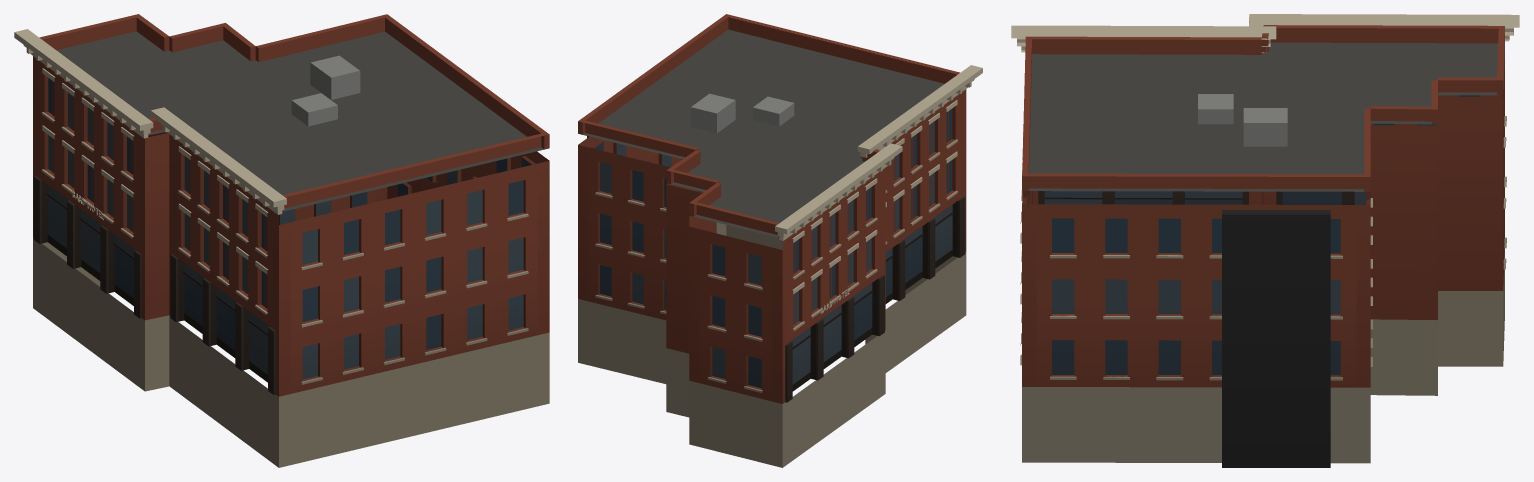
File: bard.glb
The picture shows the model from 3 angles, left to right: view 1: azimuth 30°, elevation 25°; view 2: azimuth 150°, elevation 25°; view 3: azimuth 270°, elevation 25°; orthographic projection. The views are drawn at different scales.
Visible parts, largest first — view 1: bard_lod0; view 2: bard_lod0; view 3: bard_lod0.
Part boxes in pixels (x1=…): bard_lod0: x1=14, y1=14, x2=549, y2=467; bard_lod0: x1=578, y1=14, x2=982, y2=467; bard_lod0: x1=1011, y1=14, x2=1519, y2=467.
Size of what is drawn, in the model's own units: 21.21 by 17.94 by 28.01.
